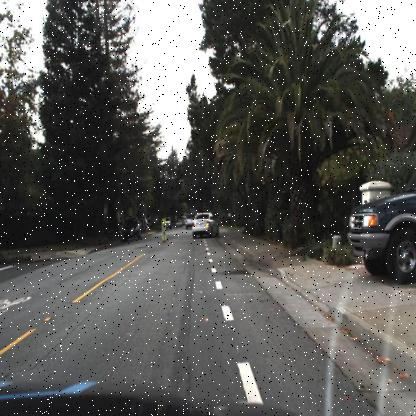car: (347, 166, 415, 286), (191, 208, 221, 240), (119, 212, 144, 244), (184, 212, 198, 232), (183, 209, 195, 232)
